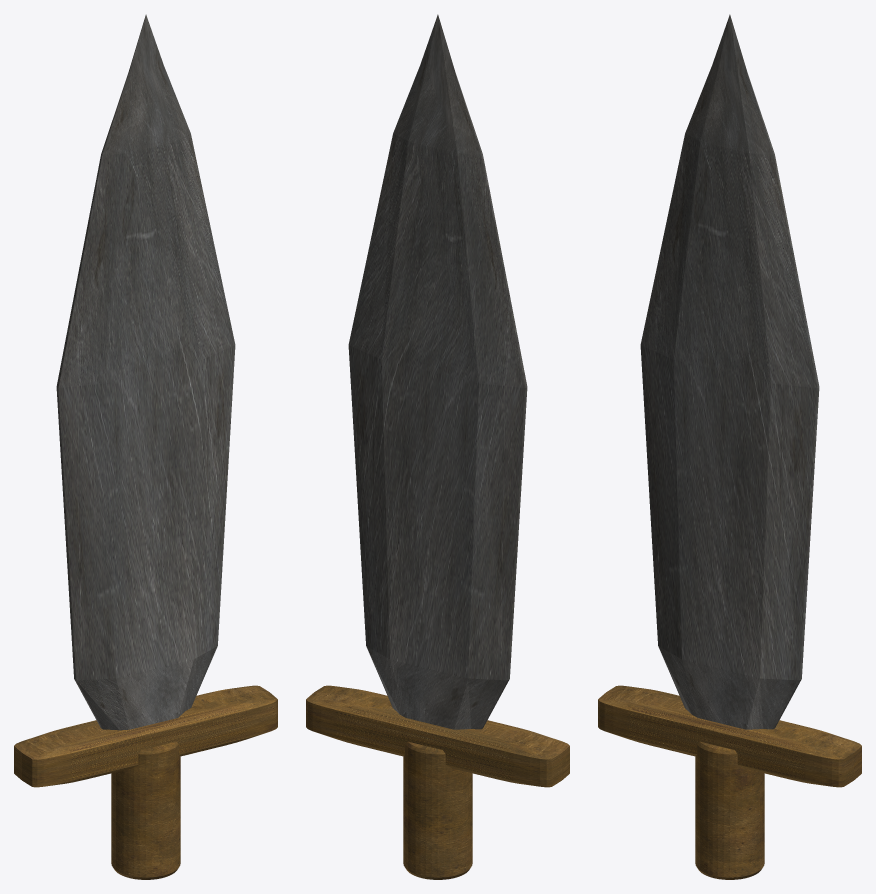
File: small_blade.obj
3 renders of one model, left to right at view 1: azimuth 30°, elevation 25°; view 2: azimuth 150°, elevation 25°; view 3: azimuth 330°, elevation 25°, orthographic.
Visible parts, largest first — view 1: blade, guard, socket; view 2: blade, guard, socket; view 3: blade, guard, socket.
Boxes of the visible parts, x1=… form: blade: x1=56, y1=14, x2=235, y2=730; guard: x1=14, y1=685, x2=277, y2=787; socket: x1=111, y1=741, x2=180, y2=879; blade: x1=348, y1=14, x2=527, y2=729; guard: x1=306, y1=685, x2=569, y2=787; socket: x1=403, y1=741, x2=472, y2=879; blade: x1=640, y1=14, x2=819, y2=729; guard: x1=598, y1=685, x2=861, y2=787; socket: x1=695, y1=741, x2=764, y2=879.
Size of the model in its own units: 32.87 by 108 by 7.98.
3 materials, 3 textured.
